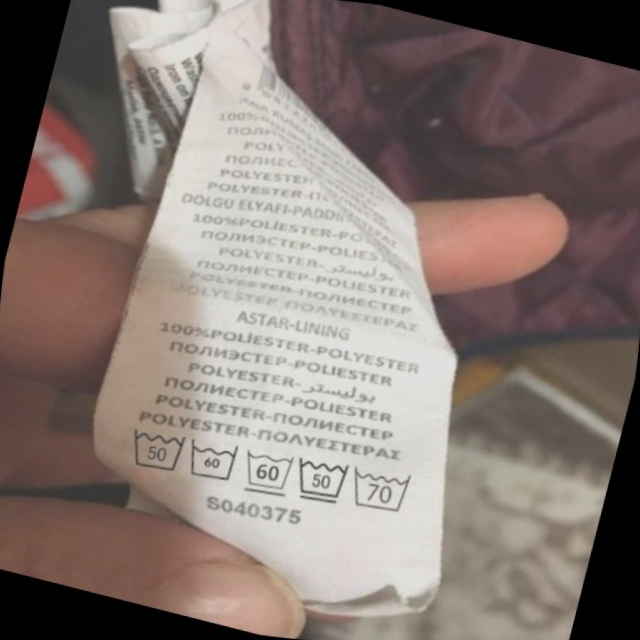50C: (115, 411, 199, 487), (284, 444, 361, 517)
60C: (233, 437, 306, 507), (177, 427, 251, 495)
70C: (342, 454, 426, 526)
